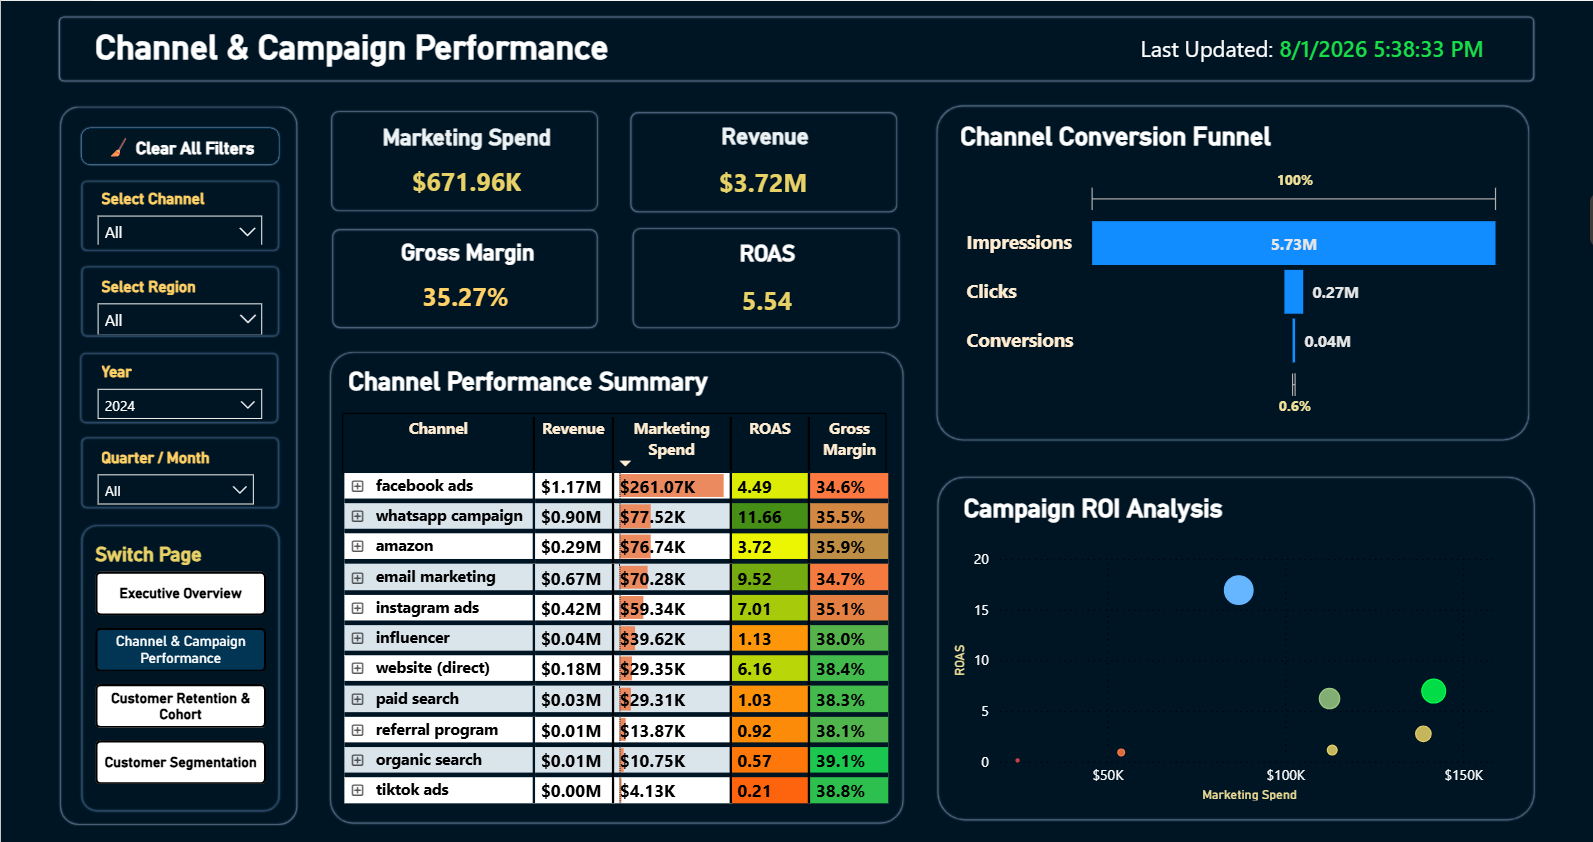

This screenshot's page, from the dashboard's own definition file:
{"tool":"powerbi","page":{"name":"Channel & Campaign Performance","canvas":[1280,720],"ordinal":1},"visuals":[{"type":"cardVisual","fields":{"Data":["Min(dim_customers.loaded_at)"]},"box":[1030.5,13,213.1,42.9],"z":0,"group":"g6"},{"type":"group","id":"g1","title":"KPI Cards","box":[233.6,67.7,526.4,218],"z":0,"group":"g7"},{"type":"shape","box":[505,67.7,254.3,98.8],"z":0,"group":"g14"},{"type":"shape","box":[775.8,67.9,492,308],"z":0,"group":"g8"},{"type":"shape","box":[233.6,68,254.8,99],"z":0,"group":"g5"},{"type":"shape","title":"Shape","box":[12.2,68.3,206.5,637.4],"z":0,"group":"g27"},{"type":"actionButton","title":"Clear Filters","box":[27.4,85.1,133.3,27.3],"z":0,"group":"g9"},{"type":"group","id":"g2","title":"Filters","box":[23.3,121,182.5,326.2],"z":0,"group":"g18"},{"type":"shape","box":[29.5,183.3,170.5,28.9],"z":0,"group":"g23"},{"type":"shape","box":[505.8,183.5,254.3,100.7],"z":0,"group":"g16"},{"type":"shape","box":[27.7,262,170.5,28.9],"z":0,"group":"g19"},{"type":"shape","box":[231.6,300.2,527.1,406],"z":0,"group":"g25"},{"type":"shape","box":[27.6,338.9,170.5,28.9],"z":0,"group":"g10"},{"type":"shape","box":[242.1,352,494.8,8.5],"z":0,"group":"g11"},{"type":"pivotTable","fields":{"Rows":["agg_campaign_performance.channel_name","agg_campaign_performance.campaign_name"],"Values":["Sum(agg_campaign_performance.total_revenue)","Sum(agg_campaign_performance.total_ad_spend)","agg_campaign_performance.ROAS","agg_campaign_performance.Gross Margin %"]},"box":[238.2,356.8,512.9,340],"z":0,"group":"g20"},{"type":"group","id":"g3","title":"Quarter / Month","box":[26.1,387.4,179.7,59.8],"z":0,"group":"g2"},{"type":"shape","box":[773.9,393.3,491.7,313.3],"z":0,"group":"g21"},{"type":"shape","box":[30,418.3,170.5,28.9],"z":0,"group":"g3"},{"type":"pageNavigator","title":"Switch Page","box":[23.4,508.8,186.3,186.6],"z":0,"group":"g4"},{"type":"group","id":"g4","title":"Group 1","box":[23.4,508.8,186.3,186.6],"z":0,"group":"g12"},{"type":"actionButton","title":"Clear Filters","box":[32.7,508.9,33.4,38.7],"z":0,"group":"g13"},{"type":"actionButton","title":"Clear Filters","box":[32.7,558.8,33.4,38.7],"z":0,"group":"g22"},{"type":"actionButton","title":"Clear Filters","box":[32.7,606.9,33.4,38.7],"z":0,"group":"g24"},{"type":"actionButton","title":"Clear Filters","box":[32.7,655.6,33.4,38.7],"z":0,"group":"g26"},{"type":"shape","box":[233.6,182.6,255,102.2],"z":125,"group":"g15"},{"type":"cardVisual","fields":{"Data":["agg_campaign_performance.Gross Margin %"]},"box":[256.5,229.8,218.8,52.9],"z":250,"group":"g15"},{"type":"textbox","box":[306.5,199.8,147.3,32.9],"z":375,"group":"g15"},{"type":"image","box":[280.8,192.6,37.2,37.2],"z":500,"group":"g15"},{"type":"group","id":"g5","title":"Marketing Spend","box":[233.6,68,254.8,99],"z":625,"group":"g1"},{"type":"group","id":"g6","title":"Last Updated","box":[929,13,314.6,42.9],"z":1000,"group":"g17"},{"type":"textbox","box":[929,18.7,128.7,32.9],"z":1000,"group":"g6"},{"type":"group","id":"g7","title":"Group 6","box":[12.2,67.7,1255.6,638.9],"z":1000},{"type":"group","id":"g8","title":"Funnel Chart","box":[775.8,67.9,492,308],"z":1000,"group":"g7"},{"type":"group","id":"g9","title":"Clear Filters","box":[27.4,85.1,133.3,27.3],"z":1000,"group":"g18"},{"type":"cardVisual","fields":{"Data":["Sum(agg_campaign_performance.total_revenue)"]},"box":[519.3,110.6,231.7,57.2],"z":1000,"group":"g14"},{"type":"funnel","title":"Funnel","fields":{"Y":["Sum(agg_channel_funnel_daily.total_impressions)","Sum(agg_channel_funnel_daily.total_clicks)","Sum(agg_channel_funnel_daily.total_conversions)"]},"box":[797.9,116.9,461.9,238.9],"z":1000,"group":"g8"},{"type":"slicer","fields":{"Values":["dim_channels.channel_name"]},"box":[26,149.3,178.1,56.9],"z":1000,"group":"g23"},{"type":"slicer","fields":{"Values":["agg_customer_cohort.region"]},"box":[23.3,228.1,178.1,57.8],"z":1000,"group":"g19"},{"type":"group","id":"g10","title":"Year","box":[24.4,306.6,178.1,61.2],"z":1000,"group":"g2"},{"type":"slicer","fields":{"Values":["dim_date.year_value"]},"box":[24.4,306.6,178.1,56.9],"z":1000,"group":"g10"},{"type":"textbox","box":[249.6,312.4,456.9,41.3],"z":1000,"group":"g25"},{"type":"group","id":"g11","title":"Lines","box":[238.1,352,503,79],"z":1000,"group":"g20"},{"type":"shape","box":[238.1,354.8,12.1,76.2],"z":1000,"group":"g11"},{"type":"slicer","fields":{"Values":["dim_date.quarter_name","dim_date.month_name_short"]},"box":[26.1,387.4,179.7,57.8],"z":1000,"group":"g3"},{"type":"scatterChart","title":"plot","fields":{"Series":["agg_campaign_performance.campaign_type"],"Size":["Sum(agg_campaign_performance.total_revenue)"],"X":["agg_campaign_performance.total_ad_spend"],"Y":["agg_campaign_performance.ROAS"]},"box":[783,456.3,482,234.4],"z":1000,"group":"g21"},{"type":"group","id":"g12","title":"Navigation","box":[21.7,471,188,224.4],"z":1000,"group":"g27"},{"type":"textbox","box":[21.7,471,96.4,36.5],"z":1000,"group":"g12"},{"type":"group","id":"g13","title":"Clear Filters","box":[32.7,508.9,33.4,38.7],"z":1000,"group":"g4"},{"type":"textbox","title":"Title","box":[67,18.4,493.4,45.8],"z":1250,"group":"g17"},{"type":"group","id":"g14","title":"Revenue","box":[505,67.7,254.3,100.1],"z":1250,"group":"g1"},{"type":"group","id":"g15","title":"Gross Margin","box":[233.6,182.6,255,102.2],"z":1375,"group":"g1"},{"type":"image","box":[19.3,13.8,45,45.4],"z":1500,"group":"g17"},{"type":"group","id":"g16","title":"ROAS","box":[505.8,183.5,254.3,102.2],"z":1500,"group":"g1"},{"type":"group","id":"g17","title":"Group 7","box":[19.3,13,1224.4,51.1],"z":2000},{"type":"textbox","box":[793.3,76.7,339.9,48.7],"z":2000,"group":"g8"},{"type":"textbox","box":[606.5,80.3,90.1,34.3],"z":2000,"group":"g28"},{"type":"group","id":"g18","title":"SLicers","box":[23.3,85.1,182.5,362.1],"z":2000,"group":"g27"},{"type":"cardVisual","fields":{"Data":["Sum(agg_campaign_performance.total_ad_spend)"]},"box":[242.2,108,237.4,55.8],"z":2000,"group":"g5"},{"type":"cardVisual","fields":{"Data":["agg_campaign_performance.ROAS"]},"box":[521.3,221.1,225.3,64.5],"z":2000,"group":"g16"},{"type":"group","id":"g19","title":"Region","box":[23.3,228.1,178.1,62.8],"z":2000,"group":"g2"},{"type":"group","id":"g20","title":"Group 2","box":[238.1,352,512.9,344.8],"z":2000,"group":"g25"},{"type":"shape","box":[729,353.4,12.1,77.6],"z":2000,"group":"g11"},{"type":"group","id":"g21","title":"Scatter Plot","box":[773.9,393.3,491.7,313.3],"z":2000,"group":"g7"},{"type":"textbox","box":[792.2,407.4,336.4,48.8],"z":2000,"group":"g21"},{"type":"group","id":"g22","title":"Clear Filters","box":[32.7,558.8,33.4,38.7],"z":2000,"group":"g4"},{"type":"textbox","box":[287.9,76.6,173.1,32.9],"z":2250,"group":"g5"},{"type":"textbox","box":[605.5,196.4,75.3,39],"z":2250,"group":"g16"},{"type":"image","box":[248.4,76.6,61.5,34.3],"z":2500,"group":"g5"},{"type":"image","box":[576.7,189.9,37.2,39.9],"z":2500,"group":"g16"},{"type":"image","box":[573.6,77.4,37.1,34.3],"z":3000,"group":"g28"},{"type":"group","id":"g23","title":"Channel Slicer","box":[26,149.3,178.1,62.9],"z":3000,"group":"g2"},{"type":"group","id":"g24","title":"Clear Filters","box":[32.7,606.9,33.4,38.7],"z":3000,"group":"g4"},{"type":"textbox","box":[29.1,121,166.8,31.1],"z":4000,"group":"g2"},{"type":"group","id":"g25","title":"Matrix Box","box":[231.6,300.2,527.1,406],"z":4000,"group":"g7"},{"type":"group","id":"g26","title":"Clear Filters","box":[32.7,655.6,33.4,38.7],"z":4000,"group":"g4"},{"type":"group","id":"g27","title":"Left Panel","box":[12.2,68.3,206.7,636.7],"z":5000,"group":"g7"},{"type":"group","id":"g28","title":"Group 4","box":[573.6,77.4,123.1,37.2],"z":5001,"group":"g14"}]}

Visuals, with their boxes on the page's 1280x720 design canvas (x1, y1, x2, y2). These are canvas units, not pixel positions in the 1593x842 screenshot, which may show the page scaled, cropped or inside an application window:
cardVisual - Min(dim_customers.loaded_at): Rect(1030, 13, 1244, 56)
"KPI Cards" group: Rect(234, 68, 760, 286)
shape: Rect(505, 68, 759, 166)
shape: Rect(776, 68, 1268, 376)
shape: Rect(234, 68, 488, 167)
"Shape" shape: Rect(12, 68, 219, 706)
"Clear Filters" actionButton: Rect(27, 85, 161, 112)
"Filters" group: Rect(23, 121, 206, 447)
shape: Rect(30, 183, 200, 212)
shape: Rect(506, 184, 760, 284)
shape: Rect(28, 262, 198, 291)
shape: Rect(232, 300, 759, 706)
shape: Rect(28, 339, 198, 368)
shape: Rect(242, 352, 737, 360)
pivotTable - agg_campaign_performance.channel_name x agg_campaign_performance.campaign_name: Rect(238, 357, 751, 697)
"Quarter / Month" group: Rect(26, 387, 206, 447)
shape: Rect(774, 393, 1266, 707)
shape: Rect(30, 418, 200, 447)
"Switch Page" pageNavigator: Rect(23, 509, 210, 695)
"Group 1" group: Rect(23, 509, 210, 695)
"Clear Filters" actionButton: Rect(33, 509, 66, 548)
"Clear Filters" actionButton: Rect(33, 559, 66, 598)
"Clear Filters" actionButton: Rect(33, 607, 66, 646)
"Clear Filters" actionButton: Rect(33, 656, 66, 694)
shape: Rect(234, 183, 489, 285)
cardVisual - agg_campaign_performance.Gross Margin %: Rect(256, 230, 475, 283)
textbox: Rect(306, 200, 454, 233)
image: Rect(281, 193, 318, 230)
"Marketing Spend" group: Rect(234, 68, 488, 167)
"Last Updated" group: Rect(929, 13, 1244, 56)
textbox: Rect(929, 19, 1058, 52)
"Group 6" group: Rect(12, 68, 1268, 707)
"Funnel Chart" group: Rect(776, 68, 1268, 376)
"Clear Filters" group: Rect(27, 85, 161, 112)
cardVisual - Sum(agg_campaign_performance.total_revenue): Rect(519, 111, 751, 168)
"Funnel" funnel: Rect(798, 117, 1260, 356)
slicer - dim_channels.channel_name: Rect(26, 149, 204, 206)
slicer - agg_customer_cohort.region: Rect(23, 228, 201, 286)
"Year" group: Rect(24, 307, 202, 368)
slicer - dim_date.year_value: Rect(24, 307, 202, 364)
textbox: Rect(250, 312, 706, 354)
"Lines" group: Rect(238, 352, 741, 431)
shape: Rect(238, 355, 250, 431)
slicer - dim_date.quarter_name x dim_date.month_name_short: Rect(26, 387, 206, 445)
"plot" scatterChart: Rect(783, 456, 1265, 691)
"Navigation" group: Rect(22, 471, 210, 695)
textbox: Rect(22, 471, 118, 508)
"Clear Filters" group: Rect(33, 509, 66, 548)
"Title" textbox: Rect(67, 18, 560, 64)
"Revenue" group: Rect(505, 68, 759, 168)
"Gross Margin" group: Rect(234, 183, 489, 285)
image: Rect(19, 14, 64, 59)
"ROAS" group: Rect(506, 184, 760, 286)
"Group 7" group: Rect(19, 13, 1244, 64)
textbox: Rect(793, 77, 1133, 125)
textbox: Rect(606, 80, 697, 115)
"SLicers" group: Rect(23, 85, 206, 447)
cardVisual - Sum(agg_campaign_performance.total_ad_spend): Rect(242, 108, 480, 164)
cardVisual - agg_campaign_performance.ROAS: Rect(521, 221, 747, 286)
"Region" group: Rect(23, 228, 201, 291)
"Group 2" group: Rect(238, 352, 751, 697)
shape: Rect(729, 353, 741, 431)
"Scatter Plot" group: Rect(774, 393, 1266, 707)
textbox: Rect(792, 407, 1129, 456)
"Clear Filters" group: Rect(33, 559, 66, 598)
textbox: Rect(288, 77, 461, 110)
textbox: Rect(606, 196, 681, 235)
image: Rect(248, 77, 310, 111)
image: Rect(577, 190, 614, 230)
image: Rect(574, 77, 611, 112)
"Channel Slicer" group: Rect(26, 149, 204, 212)
"Clear Filters" group: Rect(33, 607, 66, 646)
textbox: Rect(29, 121, 196, 152)
"Matrix Box" group: Rect(232, 300, 759, 706)
"Clear Filters" group: Rect(33, 656, 66, 694)
"Left Panel" group: Rect(12, 68, 219, 705)
"Group 4" group: Rect(574, 77, 697, 115)
